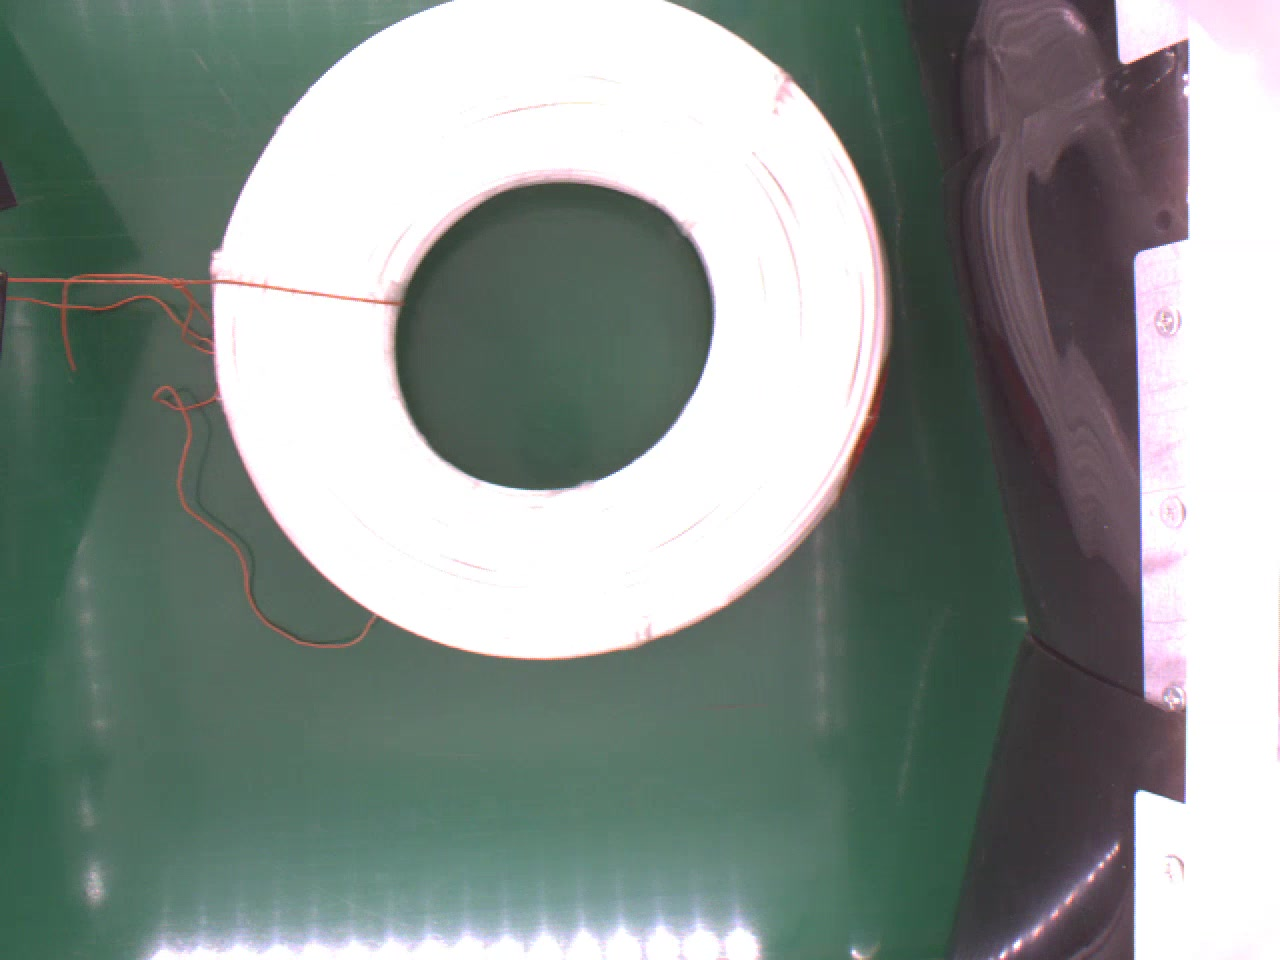white: (193, 0, 903, 661)
